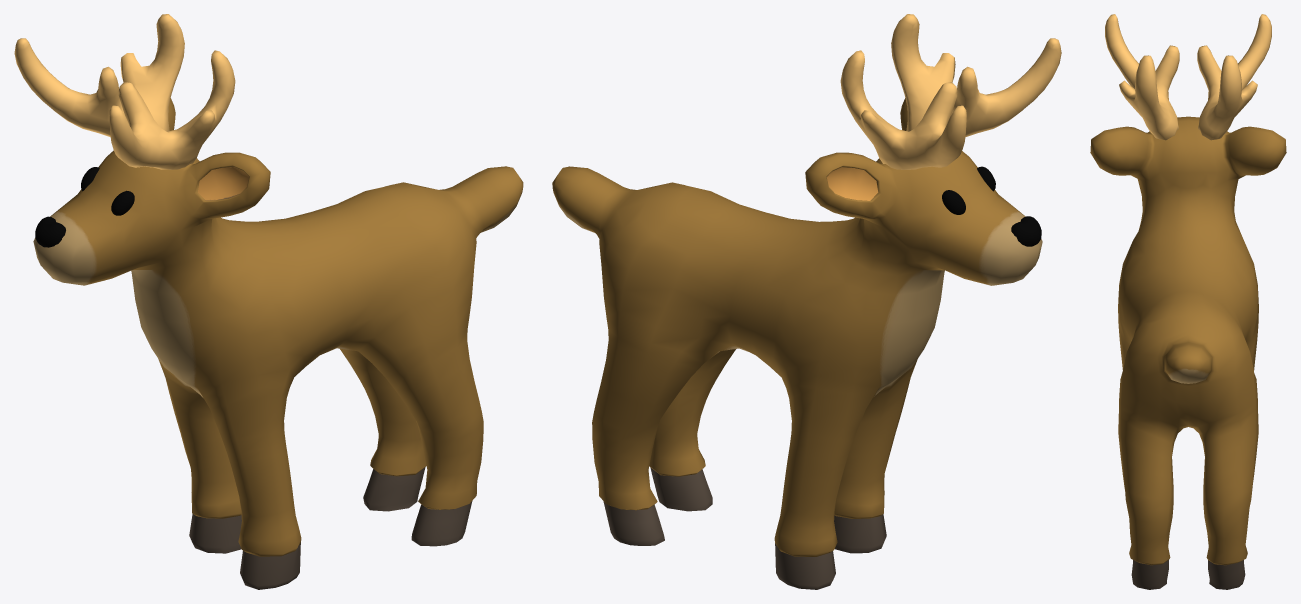
File: CH_Deer.fbx
3 renders of one model, left to right at view 1: azimuth 30°, elevation 25°; view 2: azimuth 150°, elevation 25°; view 3: azimuth 270°, elevation 25°, orthographic. The views are drawn at different scales.
Parts seen in each view (by area): view 1: PM3D_Sphere3D1_7; view 2: PM3D_Sphere3D1_7; view 3: PM3D_Sphere3D1_7.
Boxes of the visible parts, x1,y1,x2,y2 form: PM3D_Sphere3D1_7: [14, 14, 523, 589]; PM3D_Sphere3D1_7: [552, 14, 1061, 589]; PM3D_Sphere3D1_7: [1090, 14, 1286, 589].
Bounding box in the file's own units: 33.18 × 35.5 × 14.43.
